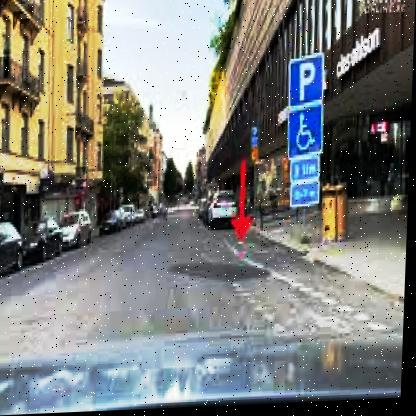Parking: (291, 60, 325, 110)
